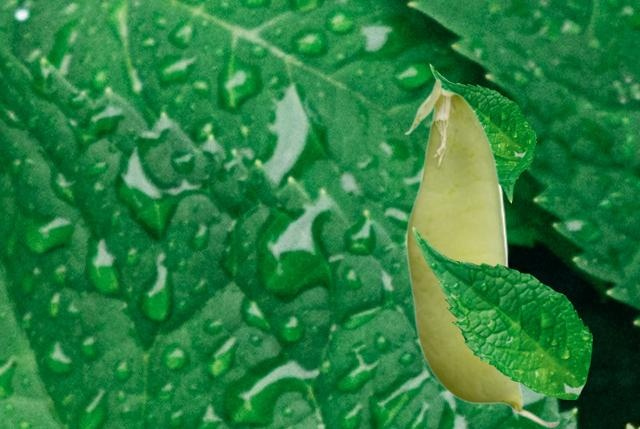pea: (403, 78, 560, 427)
